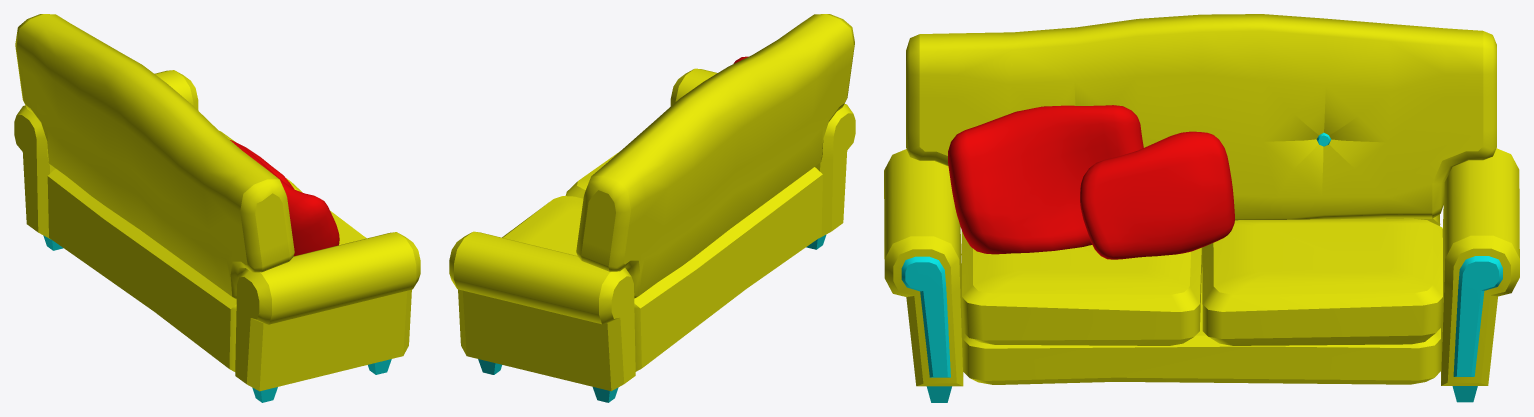
Rendered from LivingRoom_Sofa.fbx.
3 renders of one model, left to right at view 1: azimuth 30°, elevation 25°; view 2: azimuth 150°, elevation 25°; view 3: azimuth 270°, elevation 25°, orthographic. The views are drawn at different scales.
Visible parts, largest first — view 1: LivingRoom_Sofa; view 2: LivingRoom_Sofa; view 3: LivingRoom_Sofa.
Part boxes in pixels (x1,y1,x2,y2): LivingRoom_Sofa: (14,14,420,402); LivingRoom_Sofa: (449,14,855,402); LivingRoom_Sofa: (884,14,1519,402).
Bounding box in the file's own units: 114 × 144 × 271.
